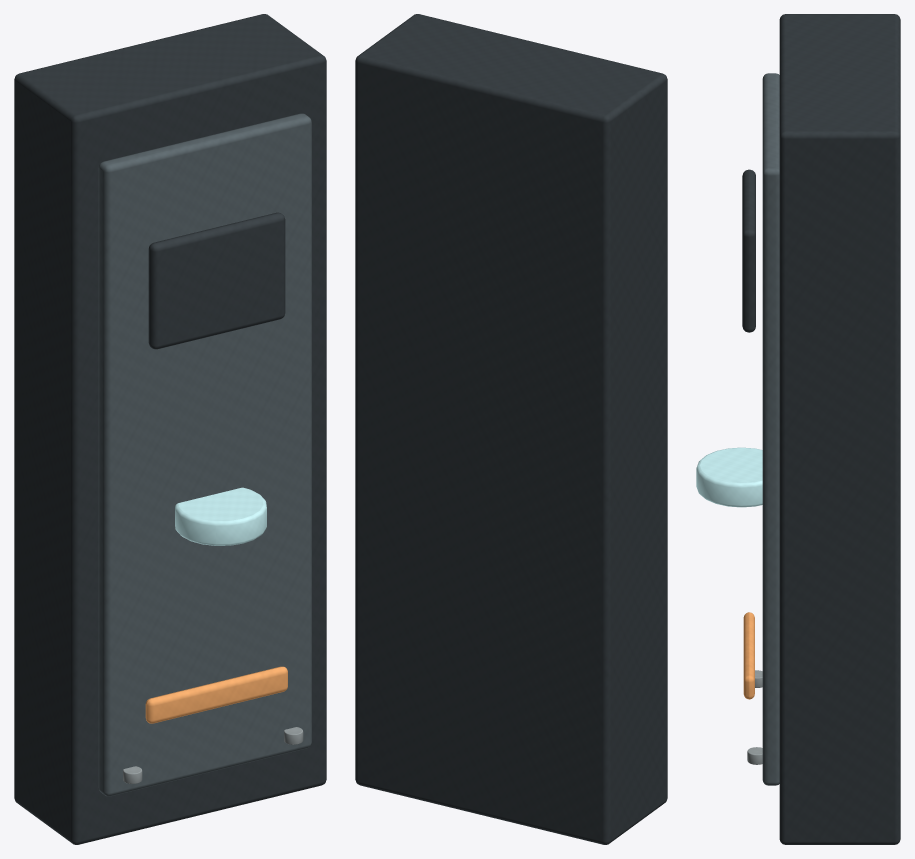
File: ElevatorCallPanel.glb
3 views of the same model, side by side, from view 1: azimuth 30°, elevation 25°; view 2: azimuth 150°, elevation 25°; view 3: azimuth 270°, elevation 25° (orthographic). The views are drawn at different scales.
Parts seen in each view (by area): view 1: ElevatorCallPanel_Mesh; view 2: ElevatorCallPanel_Mesh; view 3: ElevatorCallPanel_Mesh.
Boxes of the visible parts, bbox=[...] form: ElevatorCallPanel_Mesh: bbox=[14, 14, 326, 844]; ElevatorCallPanel_Mesh: bbox=[355, 14, 667, 844]; ElevatorCallPanel_Mesh: bbox=[696, 14, 900, 844].
Size of the model in its own units: 0.38 by 1.04 by 0.27.
5 materials, 5 textured.
